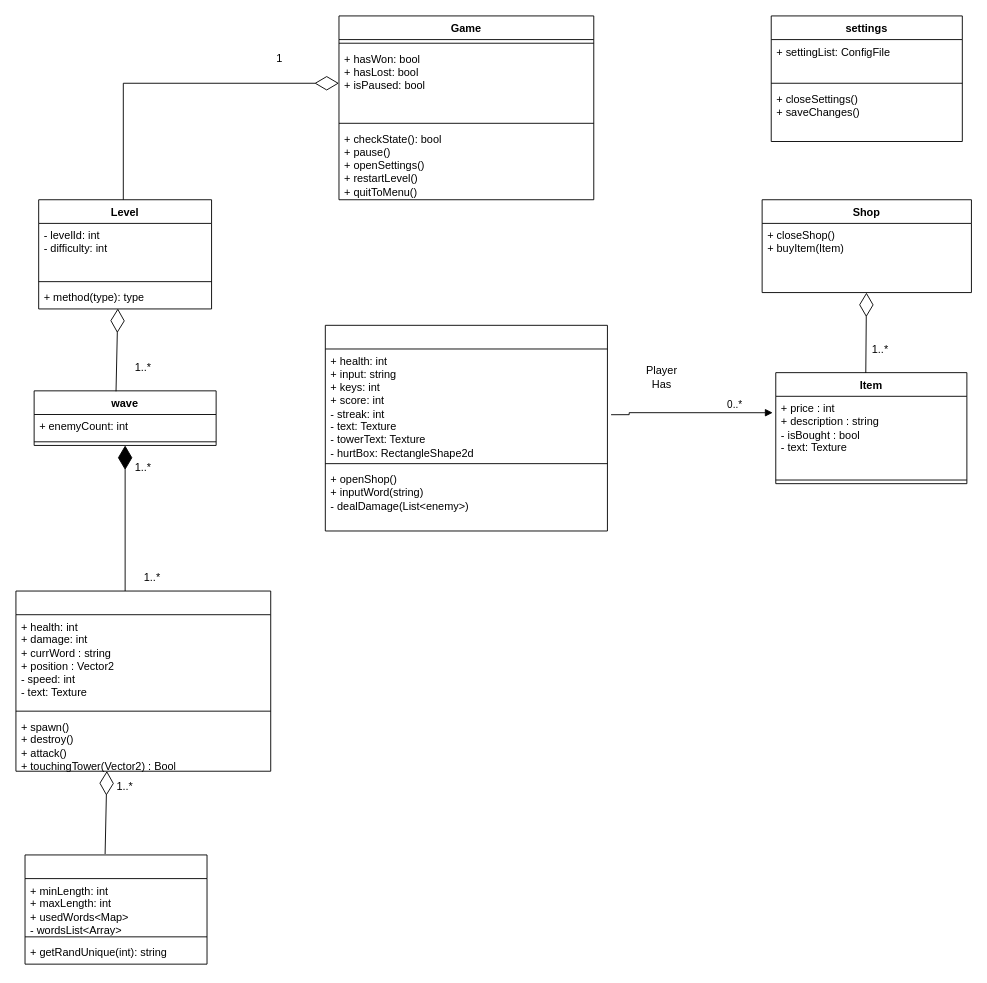
This 987x983 diagram has some shape labels left out. Each missing label, with the box of its shape:
enemy: (15, 590, 271, 771)
Player: (324, 324, 607, 531)
wordClass: (24, 854, 207, 964)
